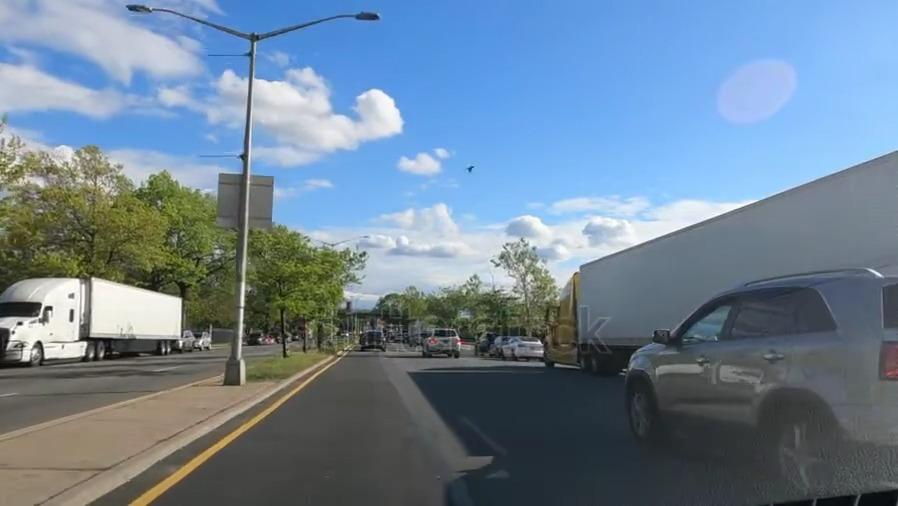bird: (464, 159, 475, 179)
car: (644, 280, 898, 483), (421, 328, 461, 357), (509, 335, 541, 360), (361, 330, 386, 350), (175, 330, 196, 350), (193, 330, 213, 351), (473, 333, 490, 353), (490, 337, 507, 356), (249, 332, 265, 346)
truck: (539, 178, 898, 367), (1, 275, 184, 371)
wheel: (766, 399, 831, 491), (631, 386, 658, 443)
